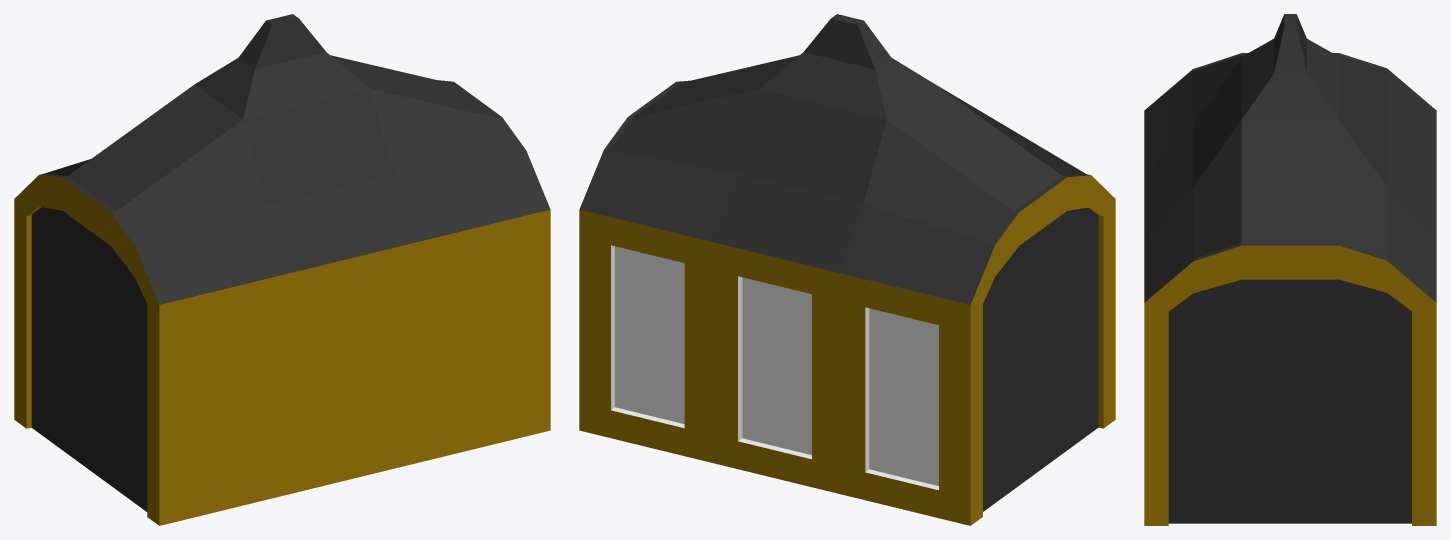
Rendered from YellowFloatingBuilding.fbx.
3 views of the same model, side by side, from view 1: azimuth 30°, elevation 25°; view 2: azimuth 150°, elevation 25°; view 3: azimuth 270°, elevation 25° (orthographic).
Parts seen in each view (by area): view 1: Cube; view 2: Cube; view 3: Cube.
Boxes of the visible parts, x1=… form: Cube: x1=14, y1=14, x2=550, y2=525; Cube: x1=579, y1=14, x2=1115, y2=525; Cube: x1=1144, y1=14, x2=1436, y2=525.
Size of the model in its own units: 1613 by 1598 by 1036.
